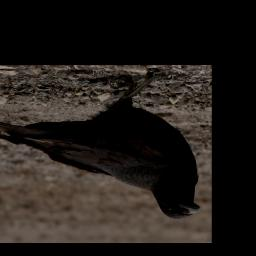Crow: (0, 72, 200, 220)
